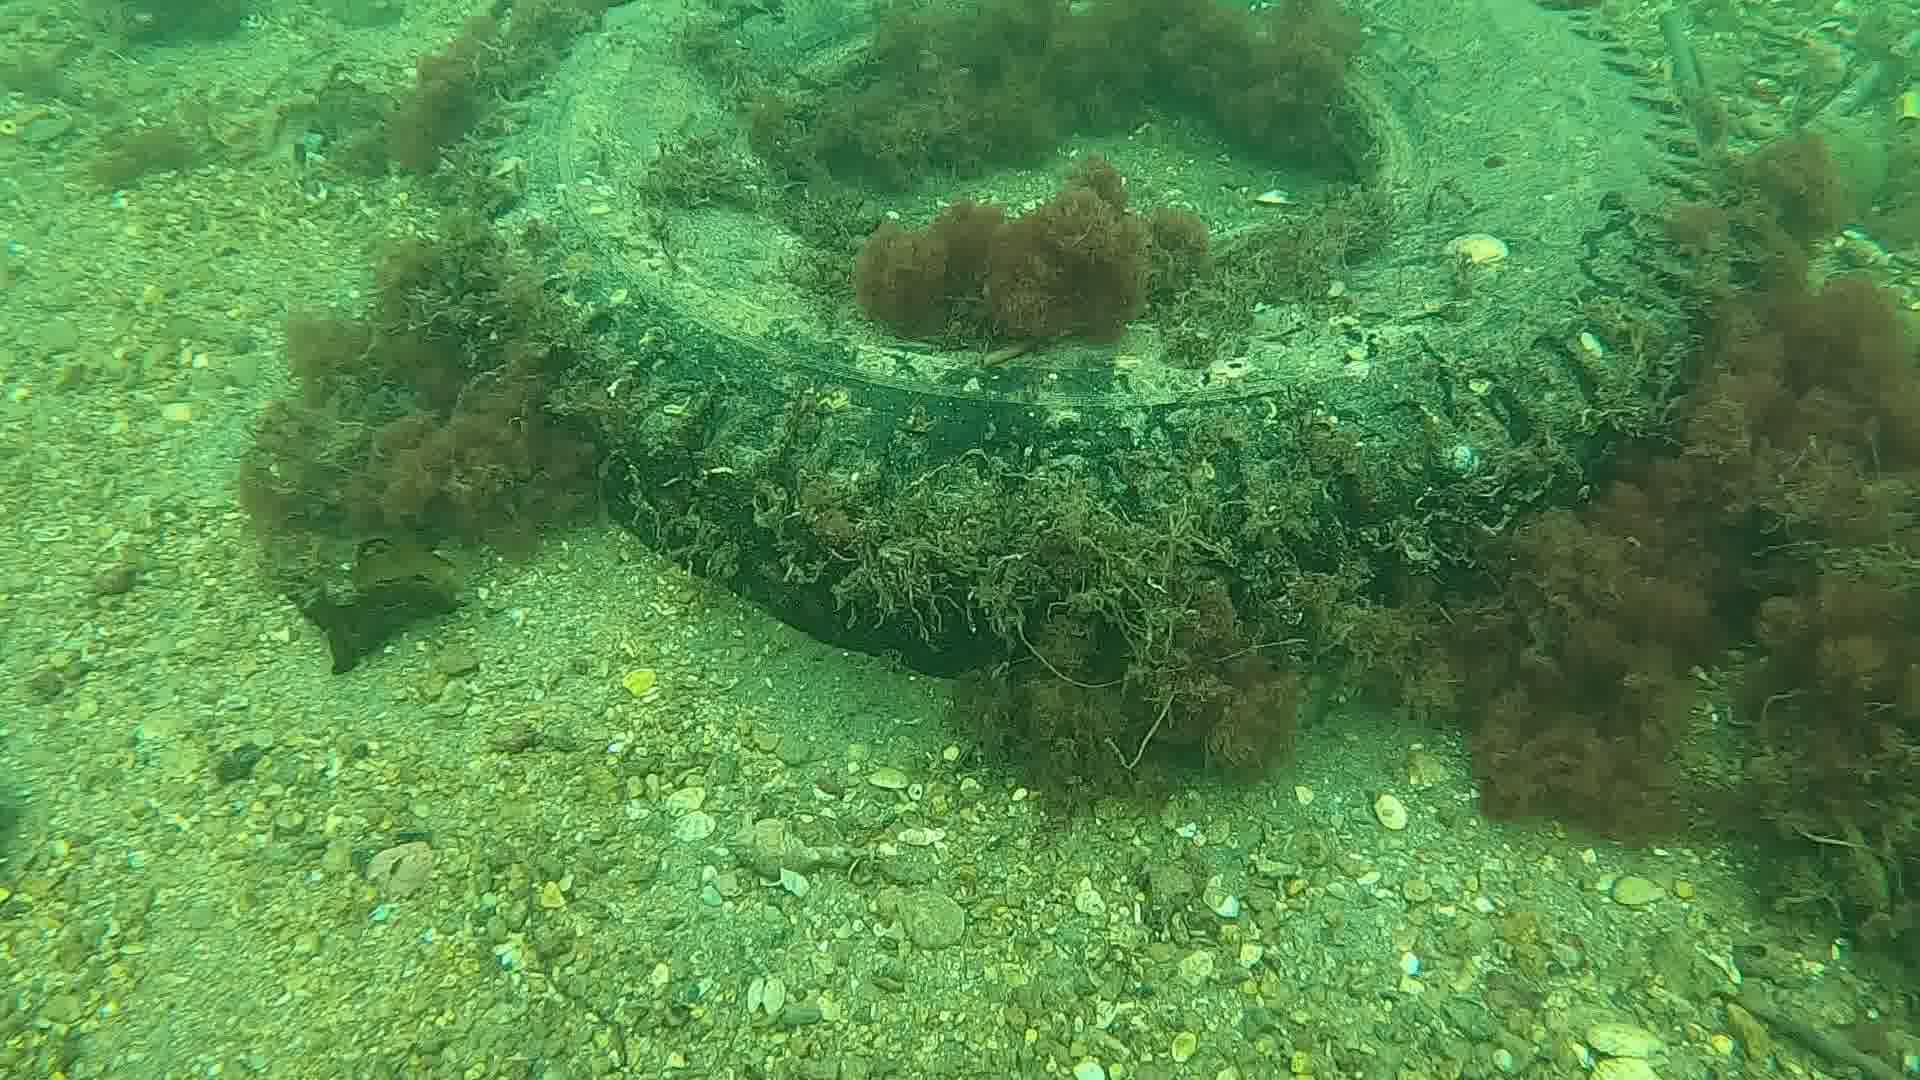tire: (487, 0, 1725, 687)
